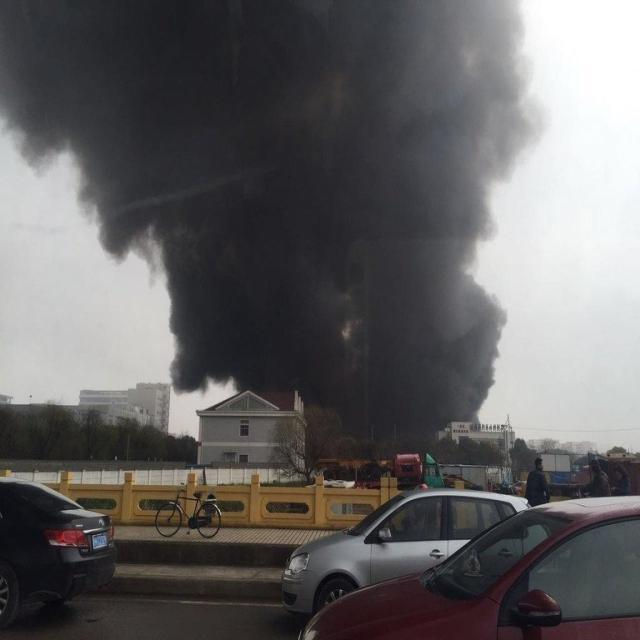Smoke: (1, 1, 548, 441)
